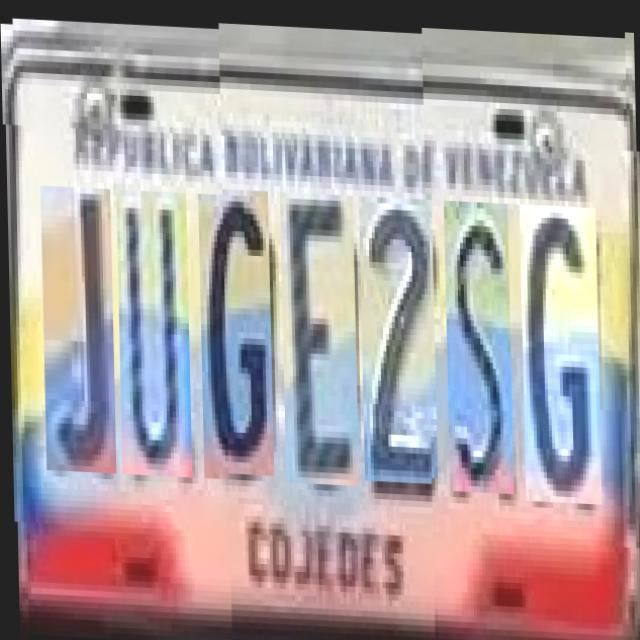2: (358, 186, 436, 474)
E: (279, 183, 357, 476)
G: (518, 198, 600, 498), (197, 180, 272, 467)
J: (40, 174, 114, 460)
S: (442, 196, 512, 488)
U: (115, 176, 190, 464)
